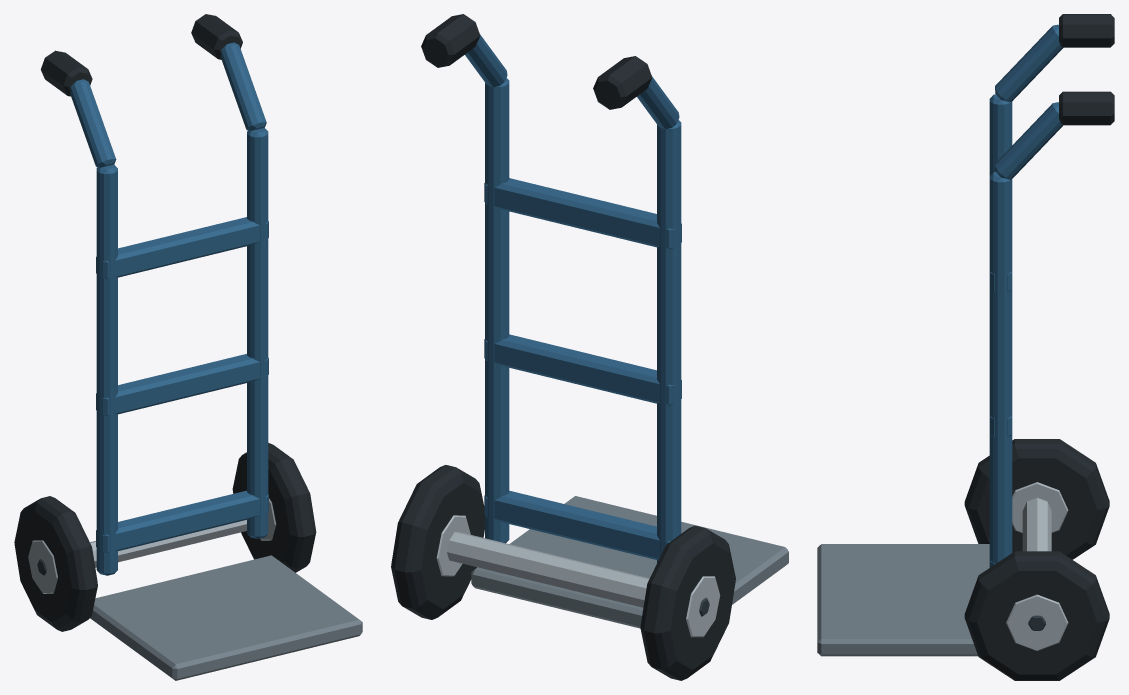
Rendered from b14_parcel_hand_truck.glb.
The picture shows the model from 3 angles, left to right: view 1: azimuth 30°, elevation 25°; view 2: azimuth 150°, elevation 25°; view 3: azimuth 270°, elevation 25°; orthographic projection. The views are drawn at different scales.
Visible parts, largest first — view 1: b14_parcel_hand_truck; view 2: b14_parcel_hand_truck; view 3: b14_parcel_hand_truck.
Part boxes in pixels (bbox=[...]): b14_parcel_hand_truck: bbox=[14, 14, 362, 680]; b14_parcel_hand_truck: bbox=[391, 14, 788, 680]; b14_parcel_hand_truck: bbox=[817, 14, 1114, 680].
Size of the model in its own units: 0.6277 by 1.3 by 0.615.
